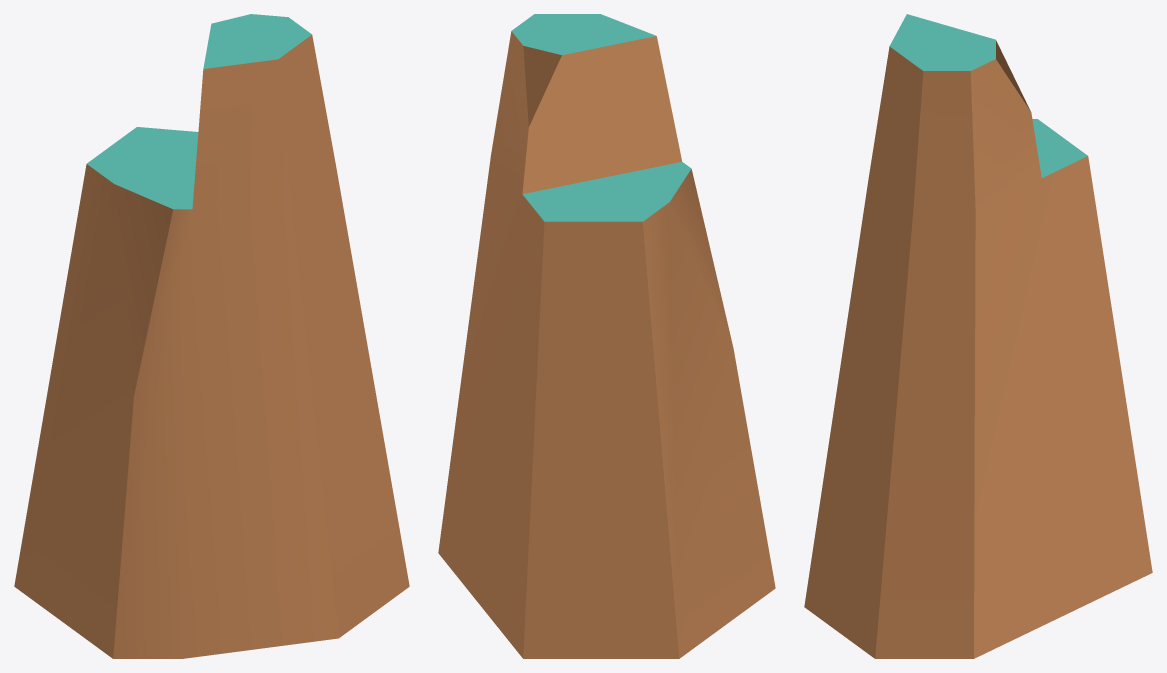
Rendered from rock_tall9.obj.
The picture shows the model from 3 angles, left to right: view 1: azimuth 30°, elevation 25°; view 2: azimuth 150°, elevation 25°; view 3: azimuth 270°, elevation 25°; orthographic projection. The views are drawn at different scales.
Parts seen in each view (by area): view 1: rock_tall9; view 2: rock_tall9; view 3: rock_tall9.
Boxes of the visible parts, x1,y1,x2,y2 form: rock_tall9: (14, 14, 409, 658); rock_tall9: (438, 14, 775, 658); rock_tall9: (804, 14, 1152, 658).
Bounding box in the file's own units: 4.56 × 8.12 × 4.64.
